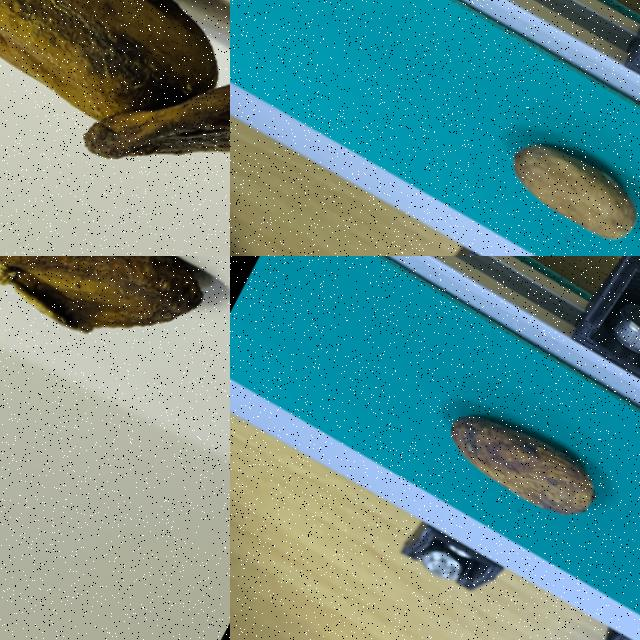Agglomerated_cocoabeans: (0, 0, 229, 255)
Fine_cocoabeans: (365, 328, 639, 577), (388, 51, 639, 255)
Flat_cocoabeans: (0, 256, 229, 451)
